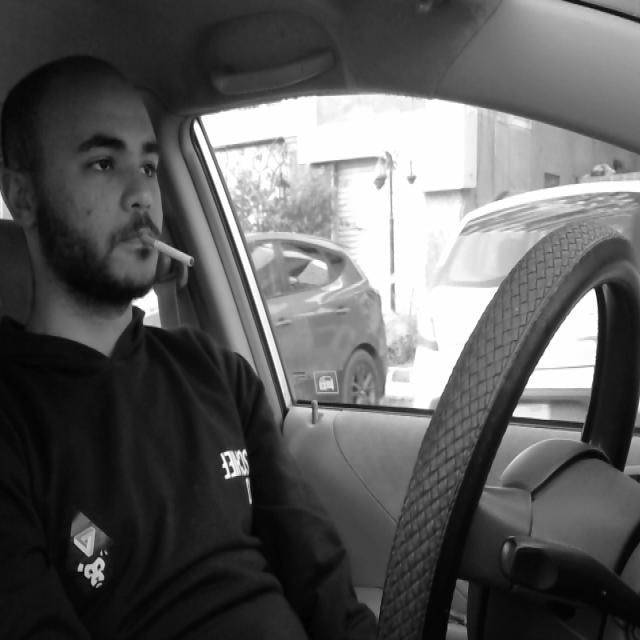smoking: (130, 225, 202, 274)
